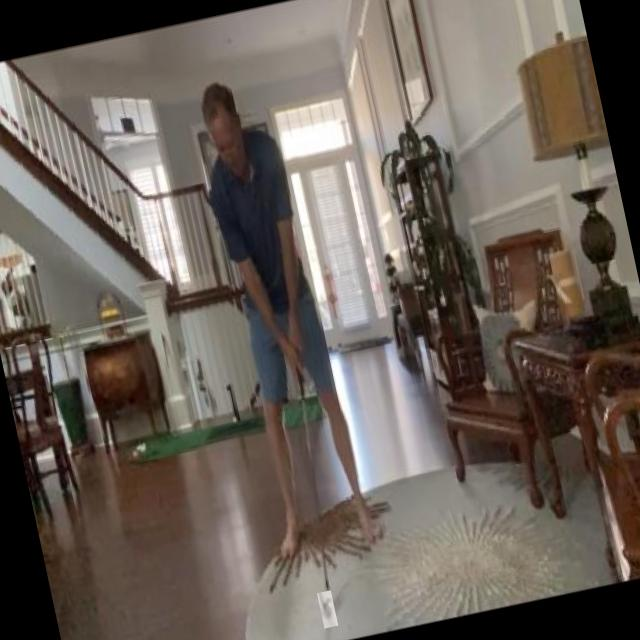club head: (316, 590, 338, 628)
